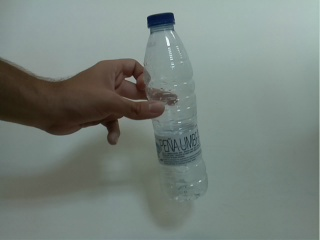botella plastico: (140, 10, 211, 203)
